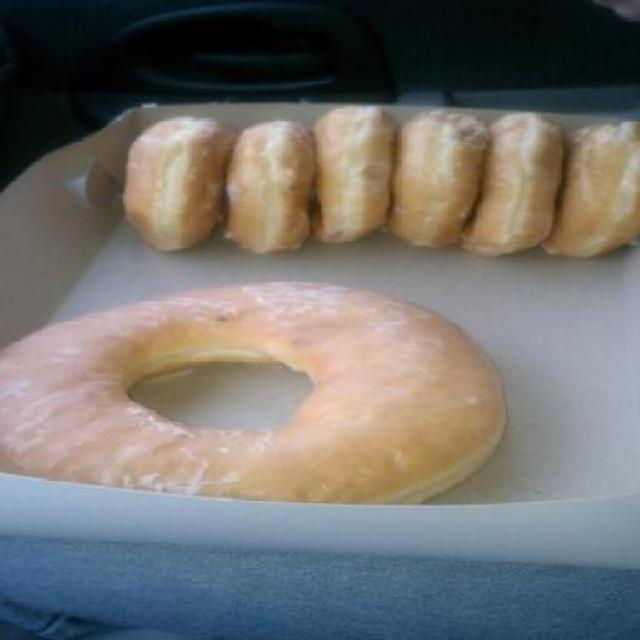Donuts: (1, 100, 638, 526)
